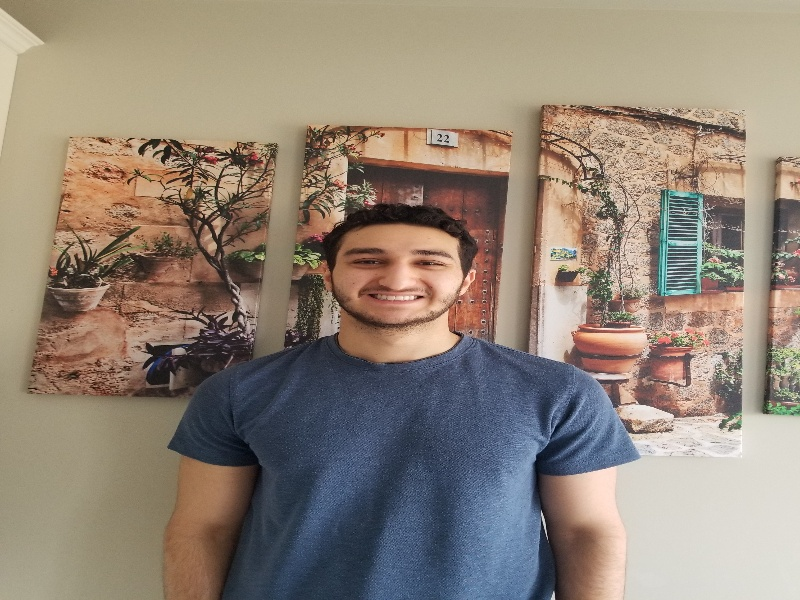smile: (331, 225, 462, 321)
